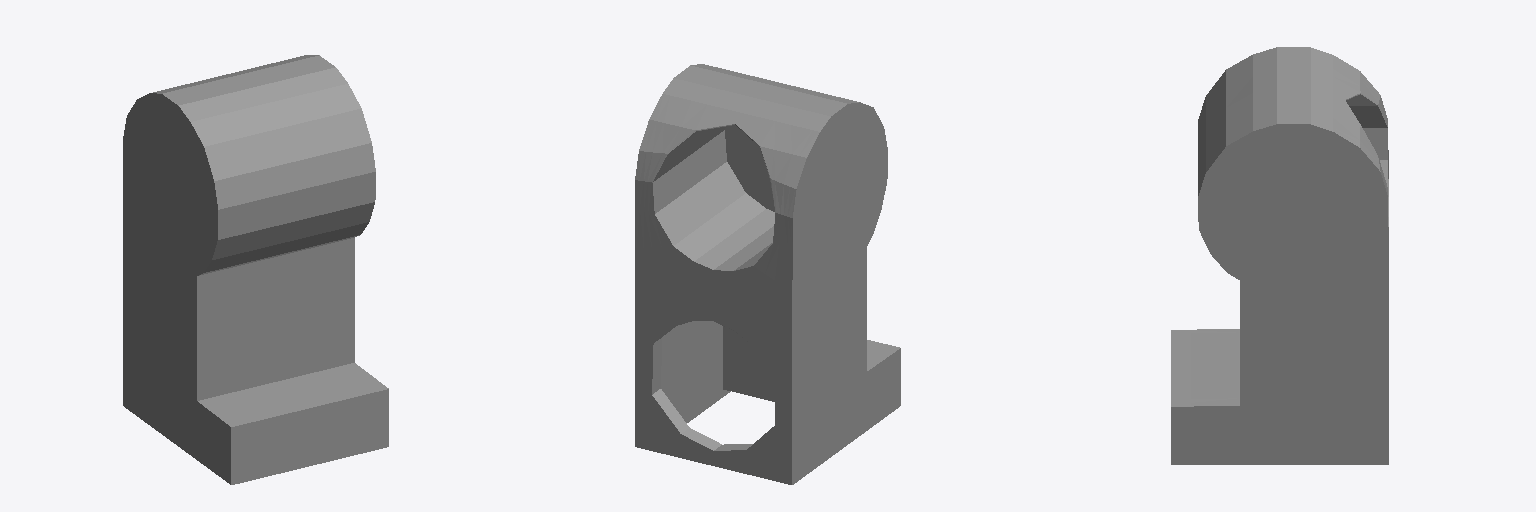
The model's file is legoRightLeg.obj.
3 renders of one model, left to right at view 1: azimuth 30°, elevation 25°; view 2: azimuth 150°, elevation 25°; view 3: azimuth 270°, elevation 25°, orthographic.
Visible parts, largest first — view 1: Mesh_Default; view 2: Mesh_Default; view 3: Mesh_Default.
Part boxes in pixels (bbox=[...]): Mesh_Default: bbox=[123, 55, 388, 484]; Mesh_Default: bbox=[635, 64, 900, 484]; Mesh_Default: bbox=[1171, 47, 1388, 464].
Bounding box in the file's own units: 0.9038 × 1.87 × 1.08.